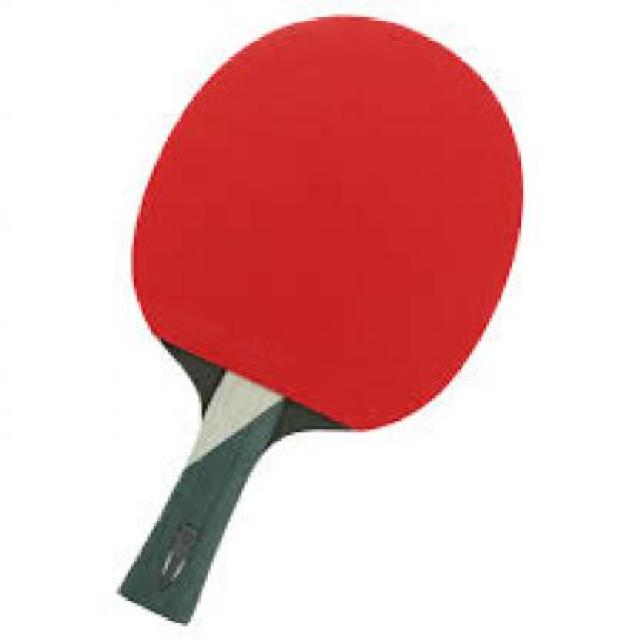table_tennis_racket: (132, 4, 530, 436)
